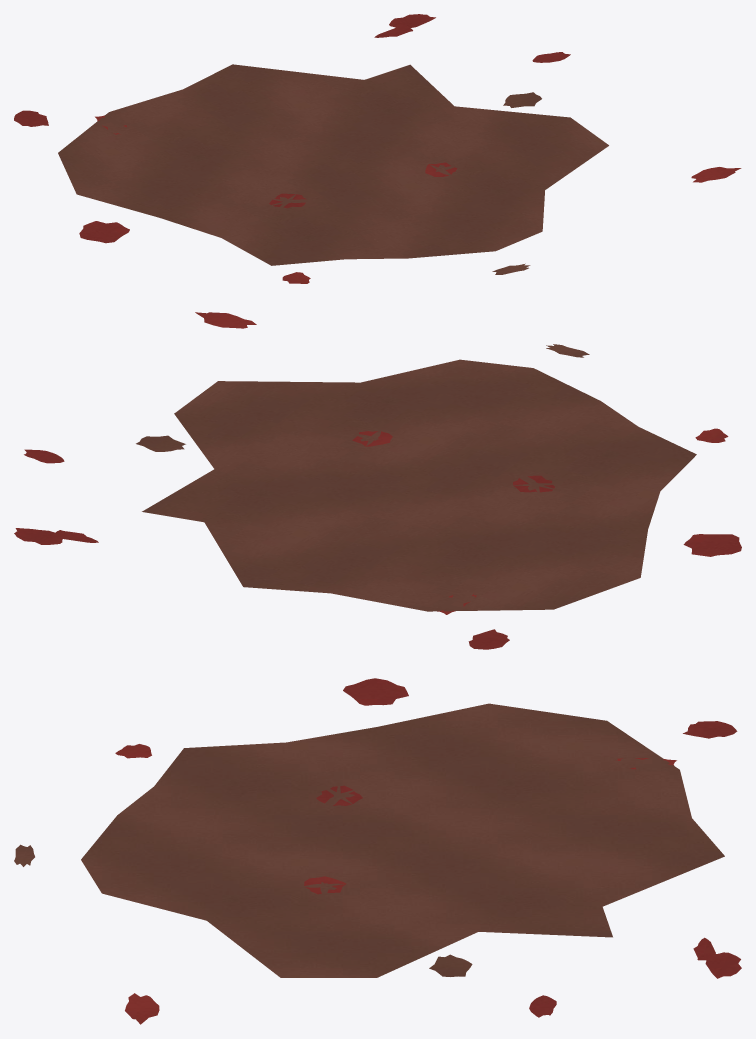
The model's file is blood_seeping_patch.glb.
3 views of the same model, one above another, from view 1: azimuth 30°, elevation 25°; view 2: azimuth 150°, elevation 25°; view 3: azimuth 270°, elevation 25° (orthographic). The views are drawn at different scales.
Parts seen in each view (by area): view 1: blood_seeping_patch; view 2: blood_seeping_patch; view 3: blood_seeping_patch.
Part boxes in pixels (x1,y1,x2,y2): blood_seeping_patch: (14,14,741,283); blood_seeping_patch: (14,312,741,649); blood_seeping_patch: (14,678,741,1024).
Size of the model in its own units: 0.9939 by 0.000299 by 0.882.
2 materials, 2 textured.
